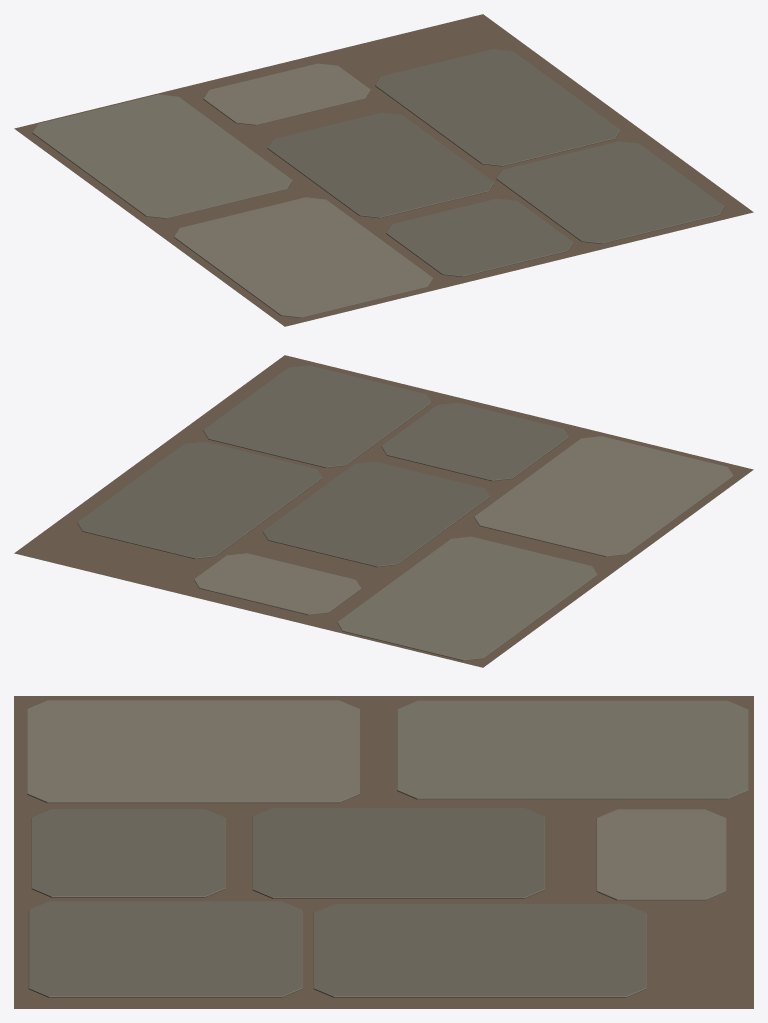
File: floor_stone_broken_4m.glb
3 views of the same model, one above another, from view 1: azimuth 30°, elevation 25°; view 2: azimuth 150°, elevation 25°; view 3: azimuth 270°, elevation 25° (orthographic). The views are drawn at different scales.
Parts seen in each view (by area): view 1: Body_floor_stone_broken_4m.001; view 2: Body_floor_stone_broken_4m.001; view 3: Body_floor_stone_broken_4m.001.
Part boxes in pixels (x1,y1,x2,y2): Body_floor_stone_broken_4m.001: (14, 14, 753, 326); Body_floor_stone_broken_4m.001: (14, 355, 753, 667); Body_floor_stone_broken_4m.001: (14, 696, 753, 1008).
Size of the model in its own units: 4 by 0.016 by 4.
